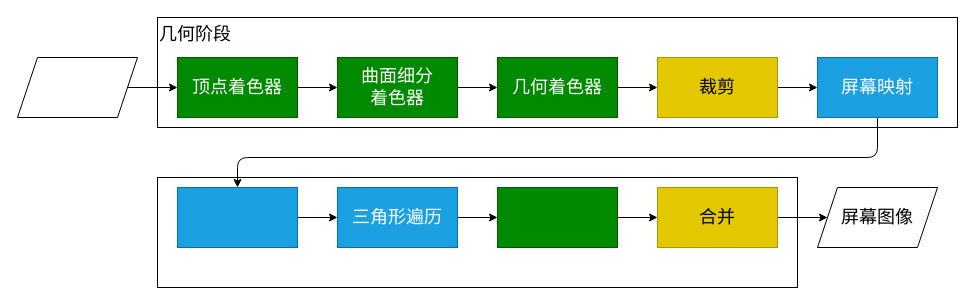
Image size: 975x305. Some labels were removed from this diagram. The box of each missing label's shape, as (x1, y1, x2, y2) in pixels:
三角形设置: (176, 186, 298, 248)
光栅化阶段: (156, 176, 798, 288)
片元着色器: (496, 186, 618, 248)
顶点数据: (16, 56, 138, 118)
